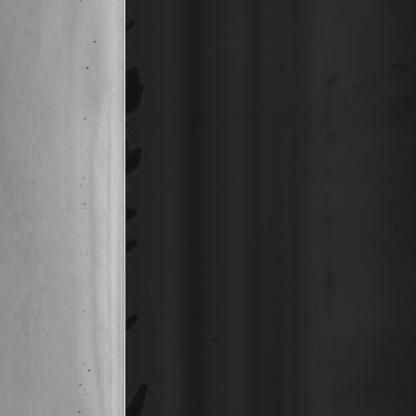inclusion: (83, 350, 94, 378), (75, 369, 85, 399), (82, 56, 90, 75), (82, 107, 91, 121), (92, 32, 100, 45)
